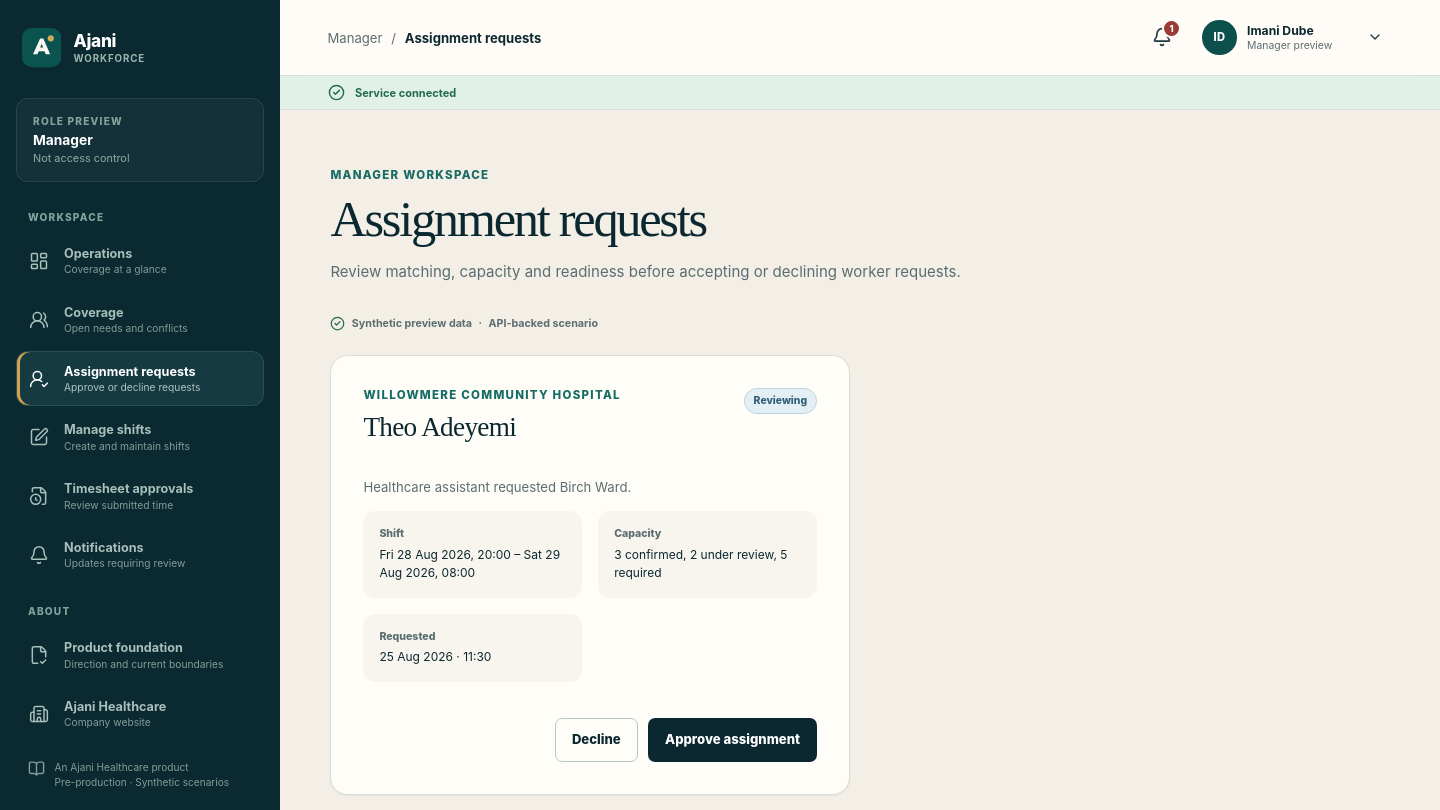
Test: Operations web journeys › approves a Manager assignment request once and invalidates connected views
Expected: the heading "Theo Adeyemi" is shown, [363,412,516,442]
Click the button "Approve assignment".
click(732, 740)  # box [648,718,817,762]
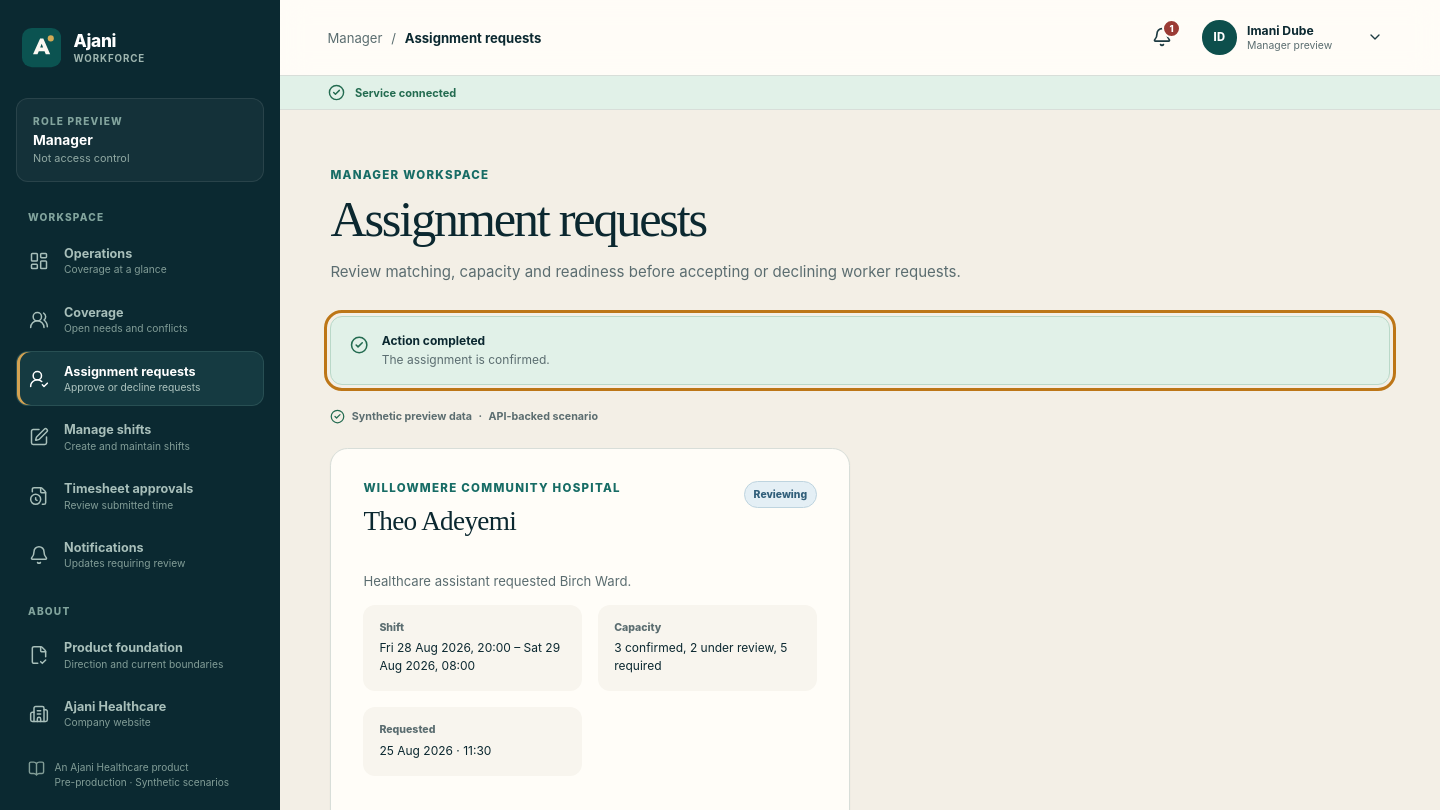
Now the message shows "assignment is confirmed", box [382,352,550,367]
